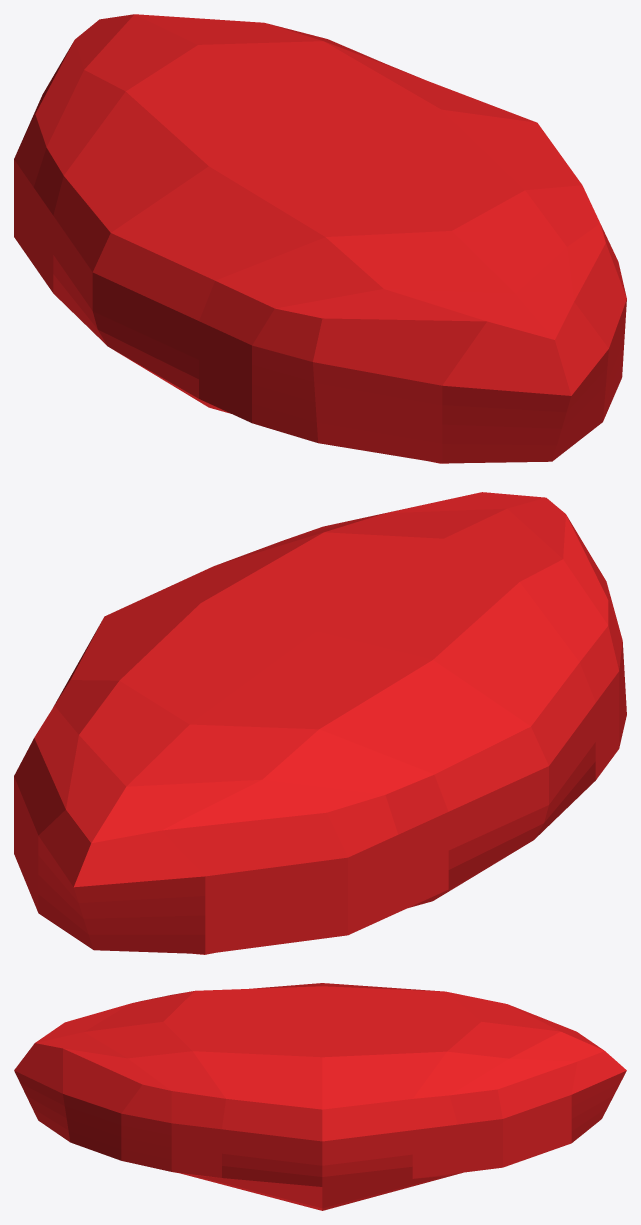
Rendered from GemEye.fbx.
The picture shows the model from 3 angles, top to bottom: view 1: azimuth 30°, elevation 25°; view 2: azimuth 150°, elevation 25°; view 3: azimuth 270°, elevation 25°; orthographic projection. The views are drawn at different scales.
Parts seen in each view (by area): view 1: Gem; view 2: Gem; view 3: Gem.
Part boxes in pixels (bbox=[...]): Gem: bbox=[14, 14, 626, 463]; Gem: bbox=[14, 492, 626, 954]; Gem: bbox=[14, 983, 626, 1210].
Bounding box in the file's own units: 142 × 88.39 × 259.
